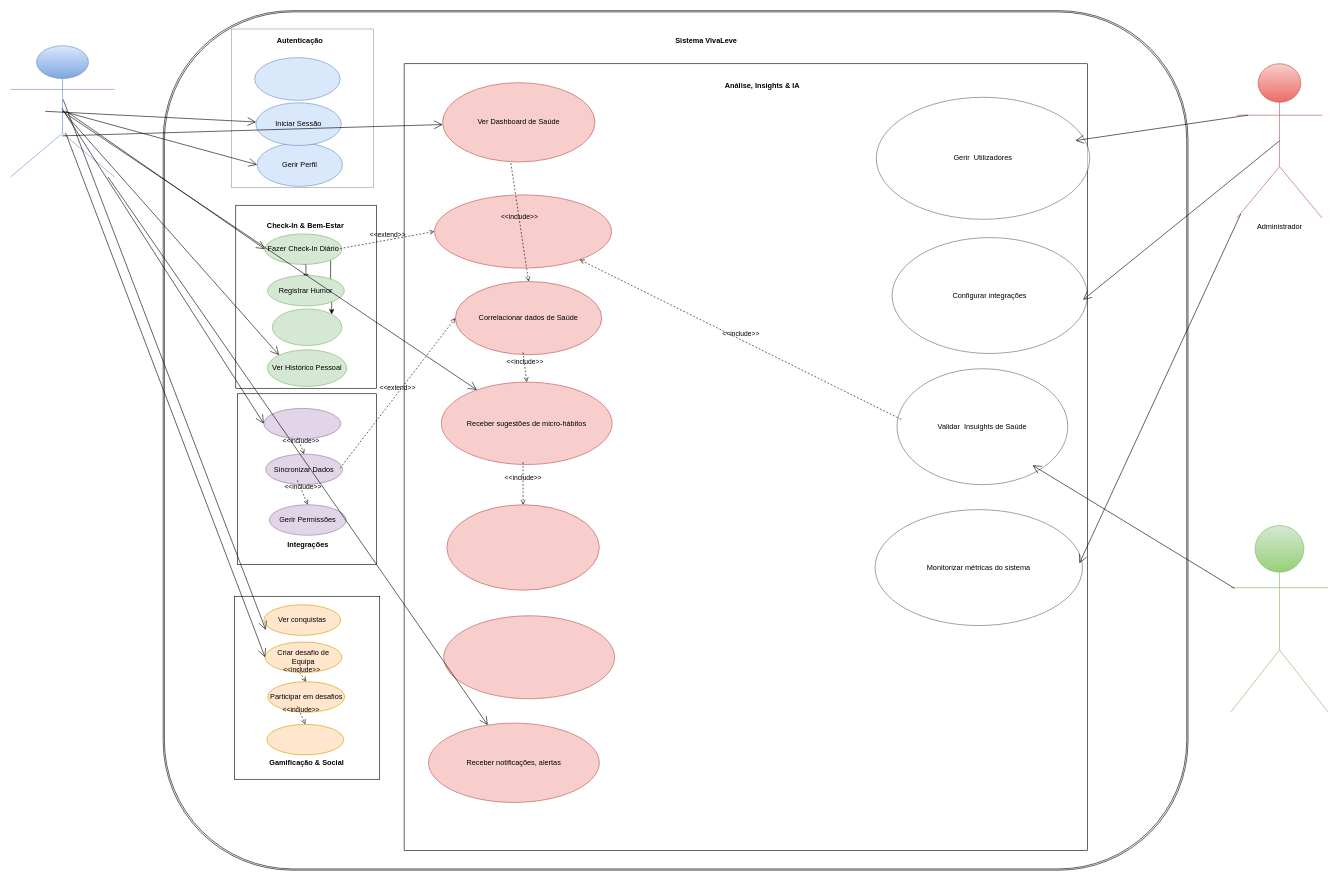
This 1339x881 diagram has some shape labels left out. The centre of each missing label's shape, as x and y in pixels:
"Administrador de saúde" belongs at point (1279, 618).
"Configurar preferência de hábitos" belongs at point (522, 547).
"Gerar relatórios semanais" belongs at point (529, 657).
"Ligar Wearble/App" belongs at point (302, 423).
"Receber Insights personalizados" belongs at point (523, 231).
"Registar nível de Energia" belongs at point (307, 327).
"Registrar conta" belongs at point (297, 78).
"Utilizador Final" belongs at point (62, 111).
"Ver Ranking de Equipa" belongs at point (305, 739).
